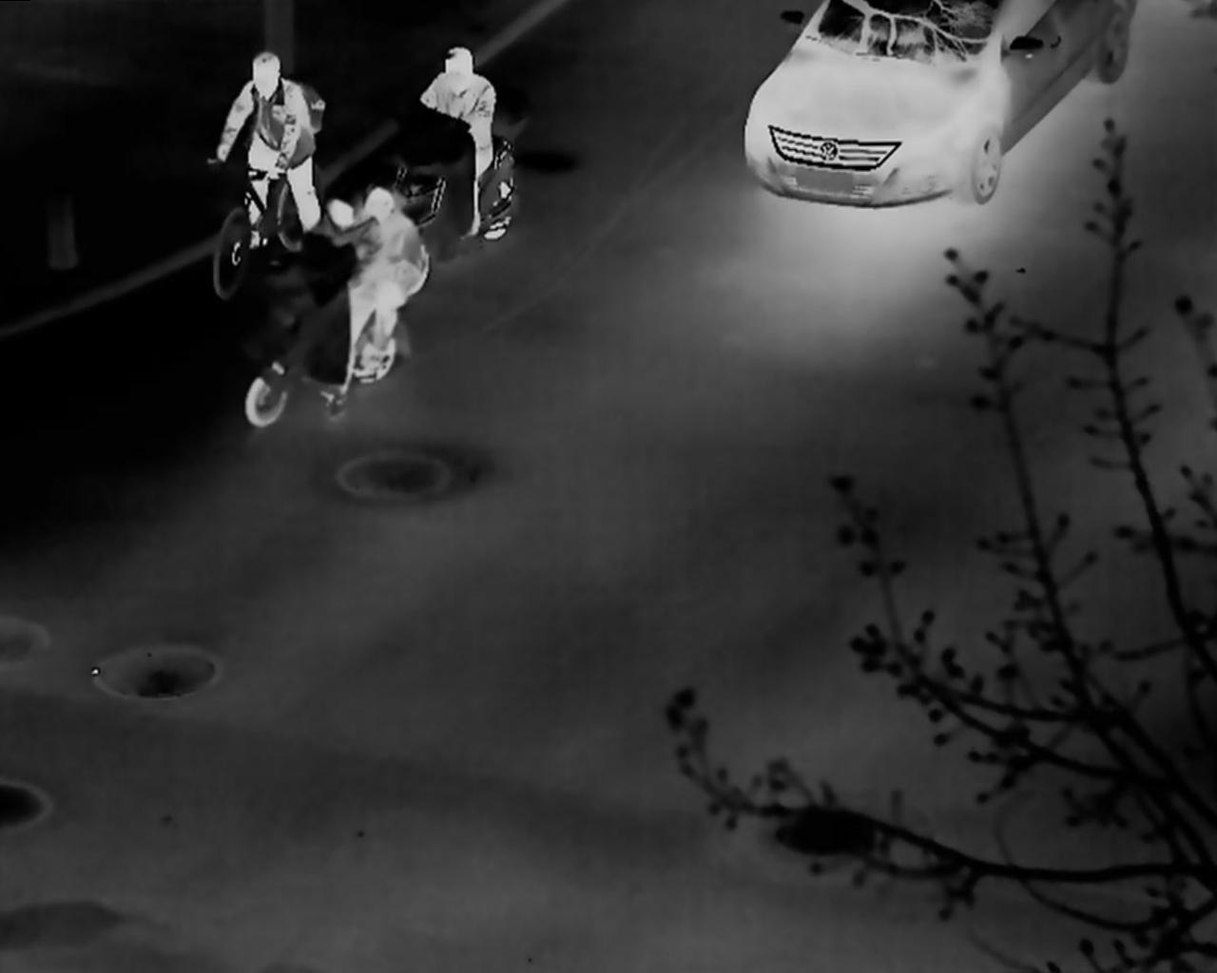person: (215, 48, 321, 239), (416, 44, 499, 236), (350, 180, 425, 377)
